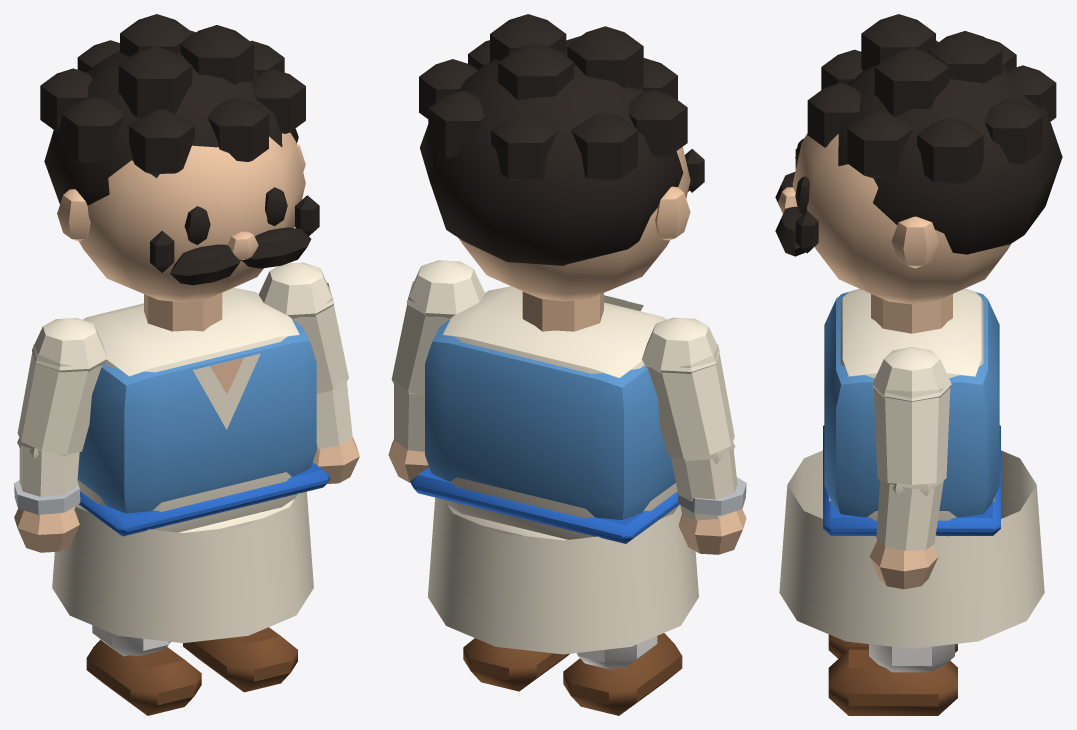
The model's file is lassi_wala.glb.
3 renders of one model, left to right at view 1: azimuth 30°, elevation 25°; view 2: azimuth 150°, elevation 25°; view 3: azimuth 270°, elevation 25°, orthographic. The views are drawn at different scales.
Parts seen in each view (by area): view 1: body, head, arm_r, arm_l, leg_r, leg_l; view 2: body, head, arm_r, arm_l, leg_r, leg_l; view 3: head, body, arm_l, leg_l, leg_r.
Boxes of the visible parts, x1,y1,x2,y2 form: body: [52, 287, 329, 642]; head: [40, 14, 319, 302]; arm_r: [14, 318, 107, 552]; arm_l: [258, 262, 359, 483]; leg_r: [86, 625, 201, 715]; leg_l: [183, 627, 297, 692]; body: [411, 286, 698, 654]; head: [419, 14, 704, 301]; arm_r: [641, 317, 746, 554]; arm_l: [388, 260, 484, 482]; leg_r: [563, 633, 682, 715]; leg_l: [463, 638, 569, 691]; head: [775, 14, 1062, 304]; body: [779, 288, 1044, 648]; arm_l: [869, 347, 951, 589]; leg_l: [828, 644, 957, 715]; leg_r: [828, 634, 957, 658].
Bounding box in the file's own units: 0.61 × 1.11 × 0.4417.
1 material, 1 textured.
